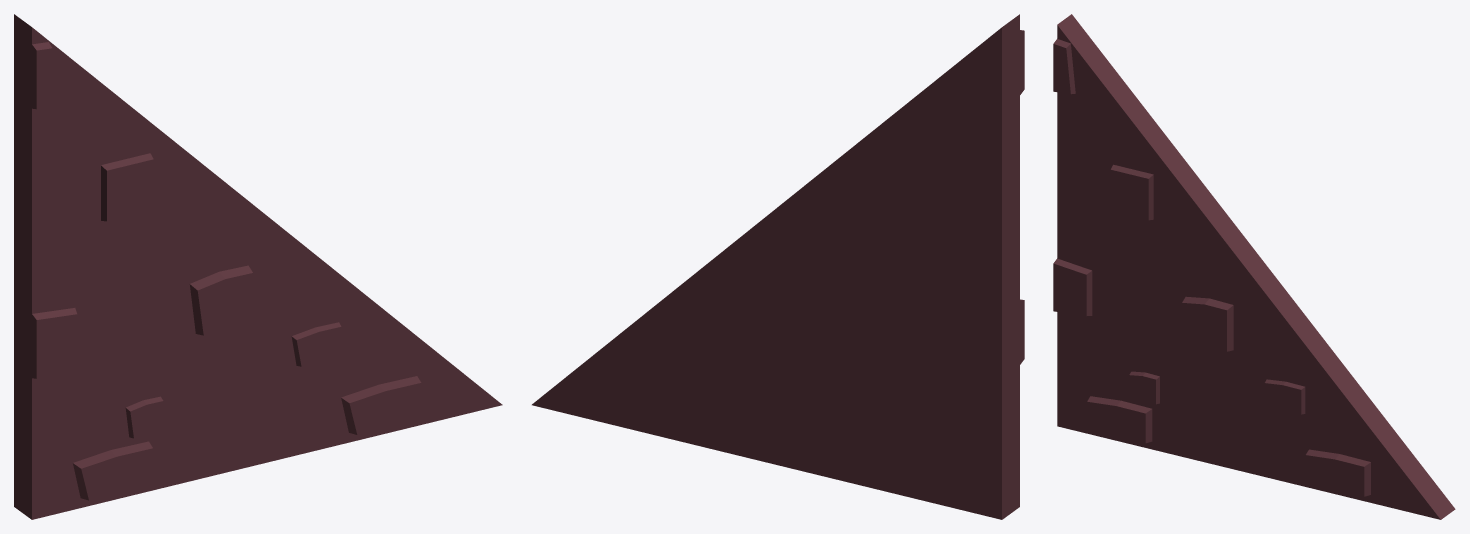
The model's file is empire-stone-wall-verical-r-3x3-rim-empire.glb.
The picture shows the model from 3 angles, left to right: view 1: azimuth 30°, elevation 25°; view 2: azimuth 150°, elevation 25°; view 3: azimuth 330°, elevation 25°; orthographic projection. The views are drawn at different scales.
Visible parts, largest first — view 1: SM_Stone_Wall_Verical_R_3x3_Rim_Empire; view 2: SM_Stone_Wall_Verical_R_3x3_Rim_Empire; view 3: SM_Stone_Wall_Verical_R_3x3_Rim_Empire.
Boxes of the visible parts, x1=… form: SM_Stone_Wall_Verical_R_3x3_Rim_Empire: x1=14, y1=14, x2=502, y2=519; SM_Stone_Wall_Verical_R_3x3_Rim_Empire: x1=532, y1=14, x2=1024, y2=519; SM_Stone_Wall_Verical_R_3x3_Rim_Empire: x1=1053, y1=14, x2=1455, y2=519.
Bounding box in the file's own units: 3 × 3 × 0.2676.
